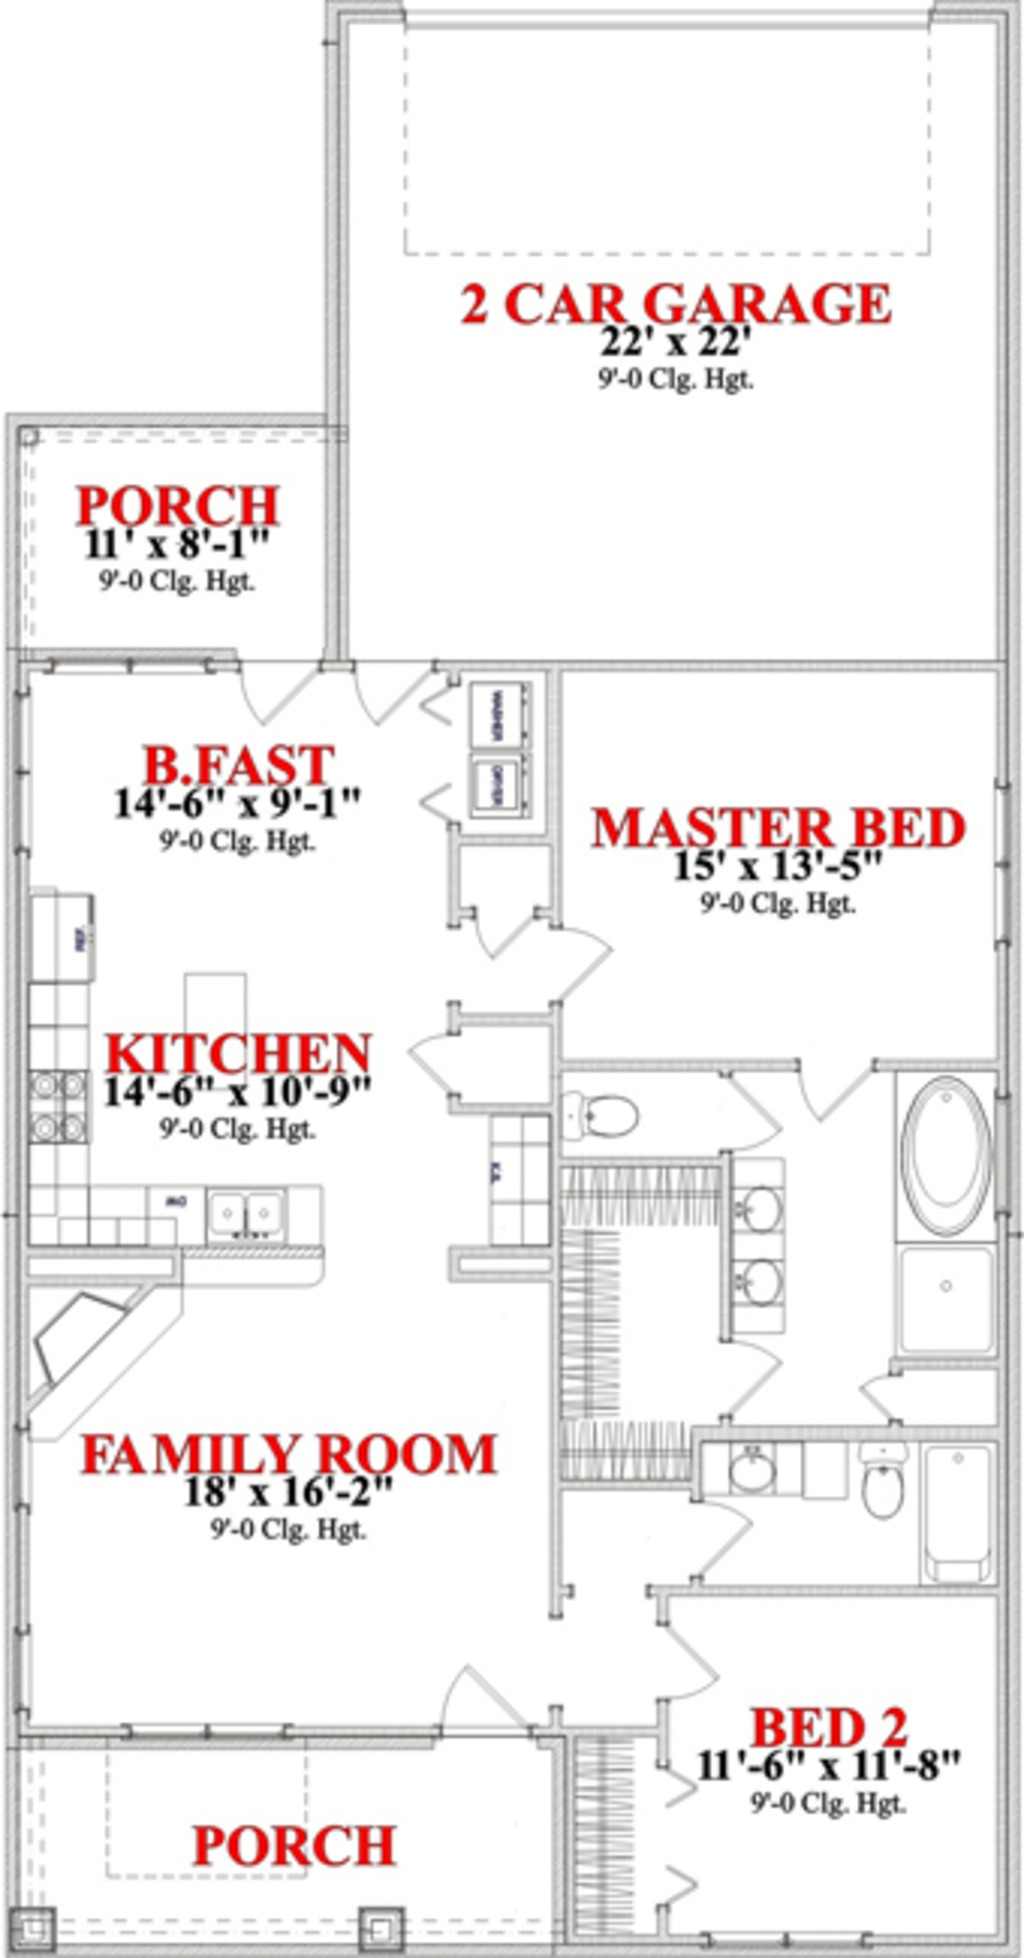door: (328, 636, 451, 738), (215, 637, 333, 726), (429, 1663, 551, 1737), (658, 1601, 748, 1699), (374, 1026, 478, 1099), (715, 1067, 801, 1154), (699, 1493, 762, 1592), (537, 919, 611, 1004), (728, 1340, 795, 1432), (851, 1369, 937, 1432), (456, 901, 539, 967), (790, 1061, 863, 1132)
large_sink: (555, 1081, 656, 1149), (856, 1422, 919, 1522)
small_sink: (729, 1154, 795, 1338), (700, 1436, 823, 1500)
tub: (926, 1443, 1011, 1588)
twin_sink: (184, 1165, 325, 1257)
